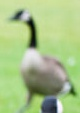goose: (4, 8, 79, 113)
